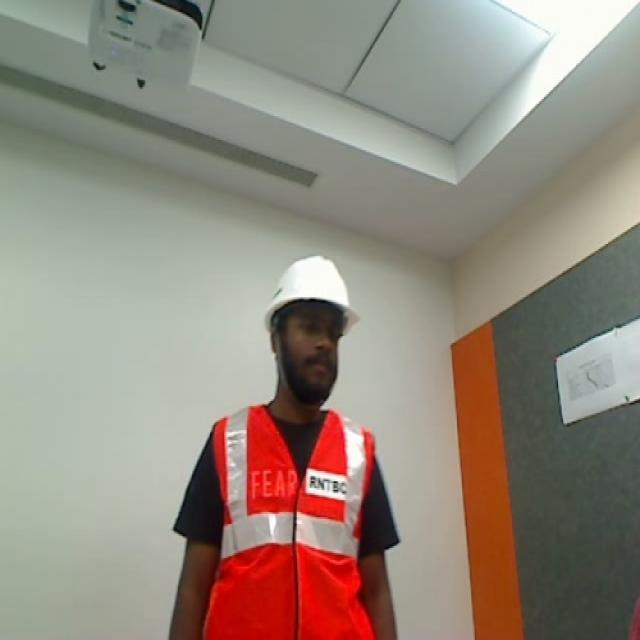safety_helmet: (206, 396, 378, 640)
